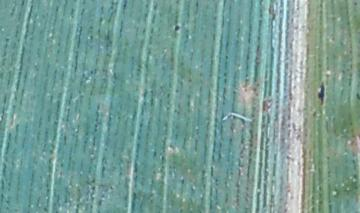tarspot: (316, 80, 326, 107), (172, 23, 181, 32), (178, 177, 187, 186), (354, 92, 360, 101), (352, 1, 359, 8)
